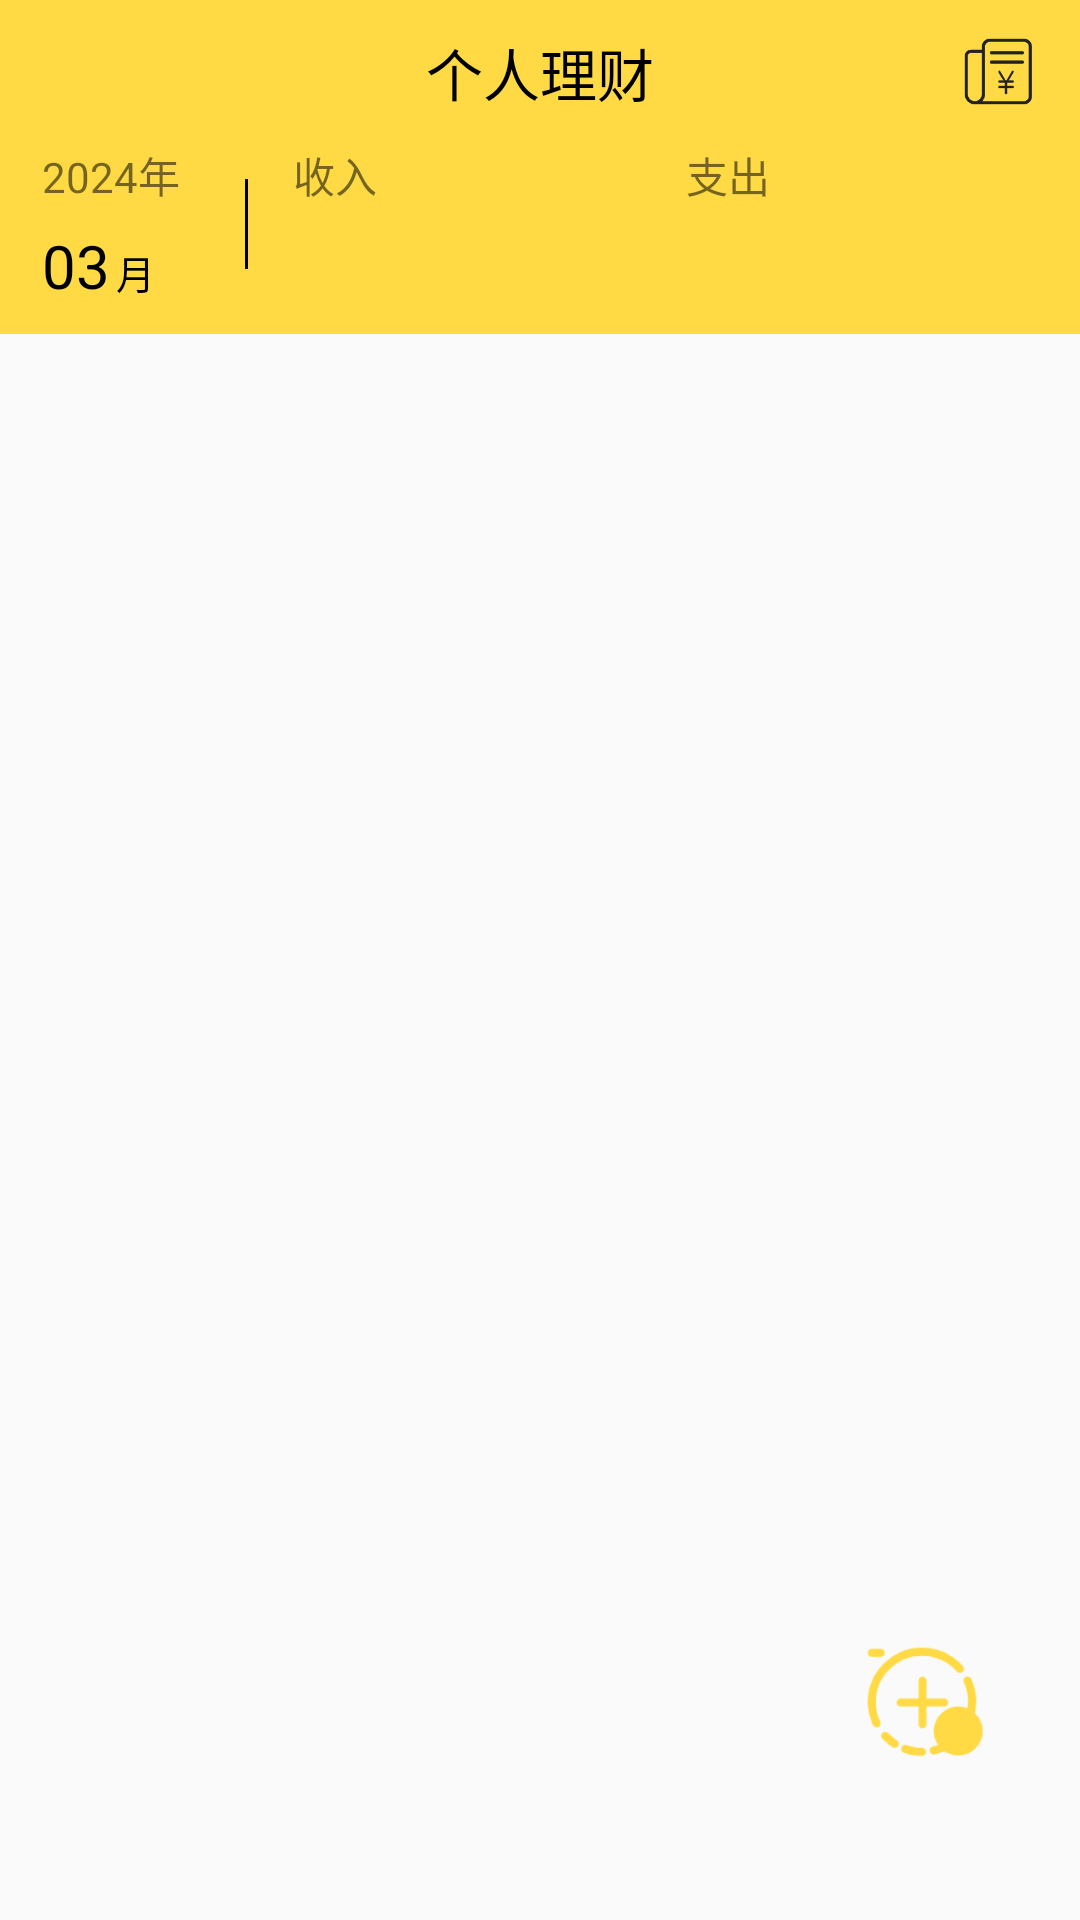

Icon click points for this 1080×1920 phone screenshot, format (x=x, y=y):
add: (x=925, y=1702)
bill: (x=998, y=71)
